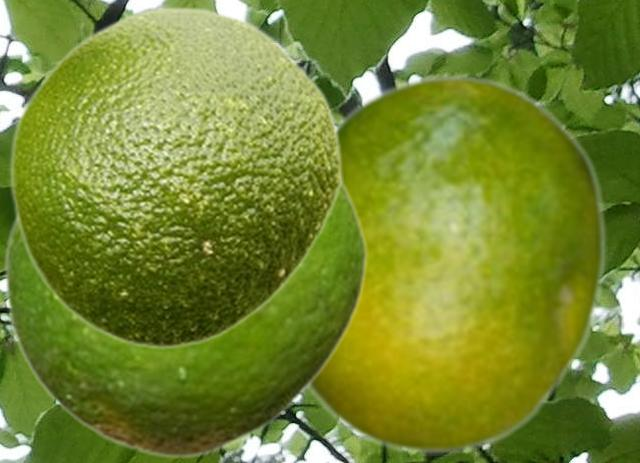calamansi: (8, 5, 342, 350), (306, 72, 606, 454), (3, 171, 367, 459)
